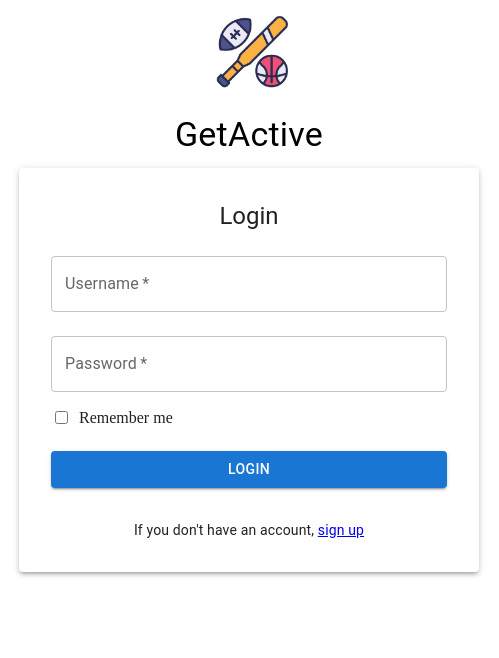
Test case: Login Page E2E Test › should display an error message on failed login
The width and height of the screenshot is (499, 658).
Type "testuser" into the field labelled "Username *".
click(249, 284); type("testuser")  # box [51,256,447,312]
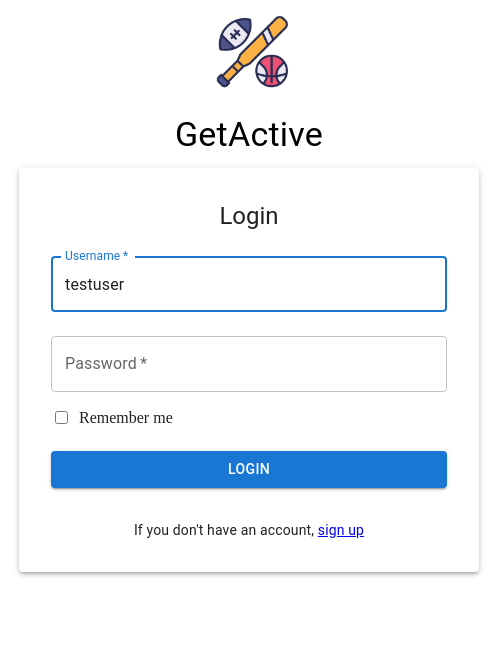
Type "wrongpassword" into the password field labelled "Password *".
click(249, 364); type("wrongpassword")  # box [51,336,447,392]
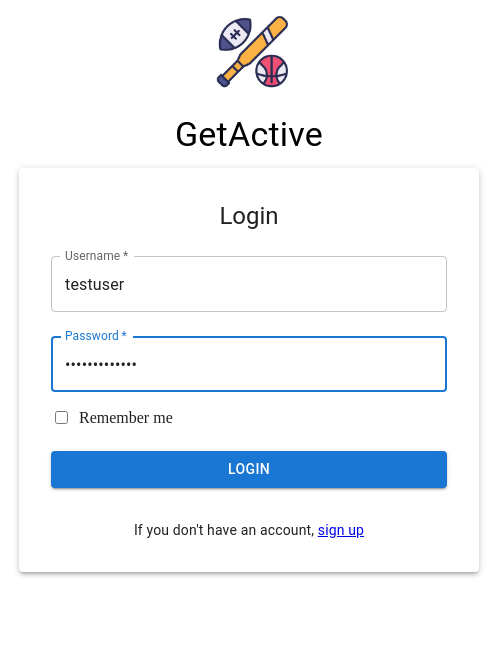
Click the button "Login".
click(249, 470)  # box [51,451,447,488]
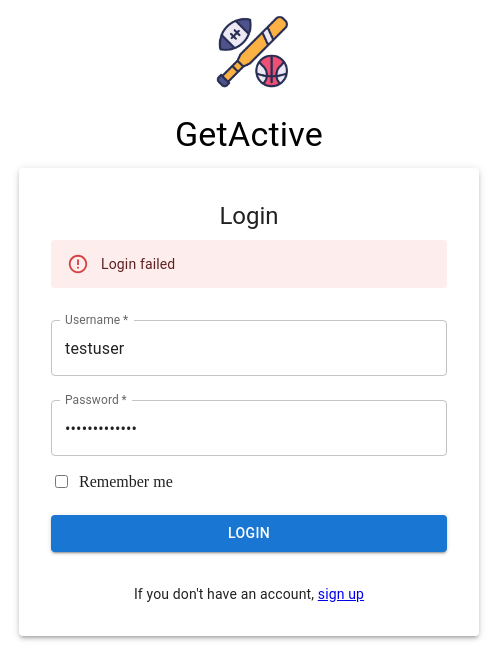
Now the text "Login failed" is shown, box [101,256,175,272]
